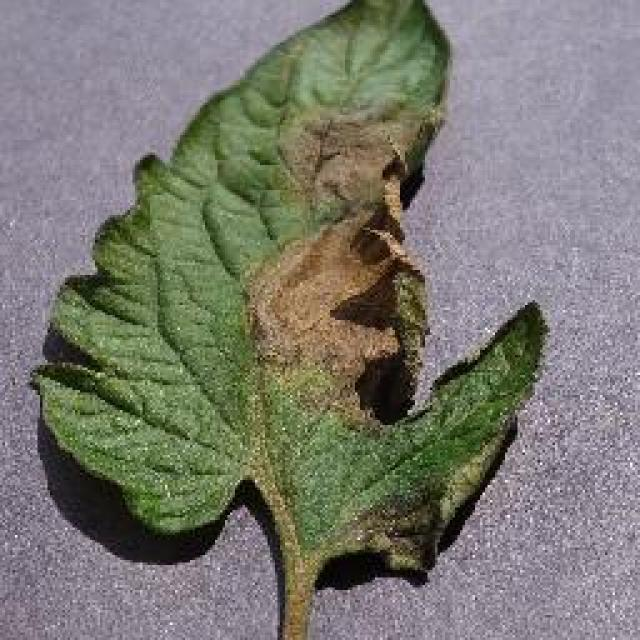Tomato Late Blight: (240, 92, 477, 540)
